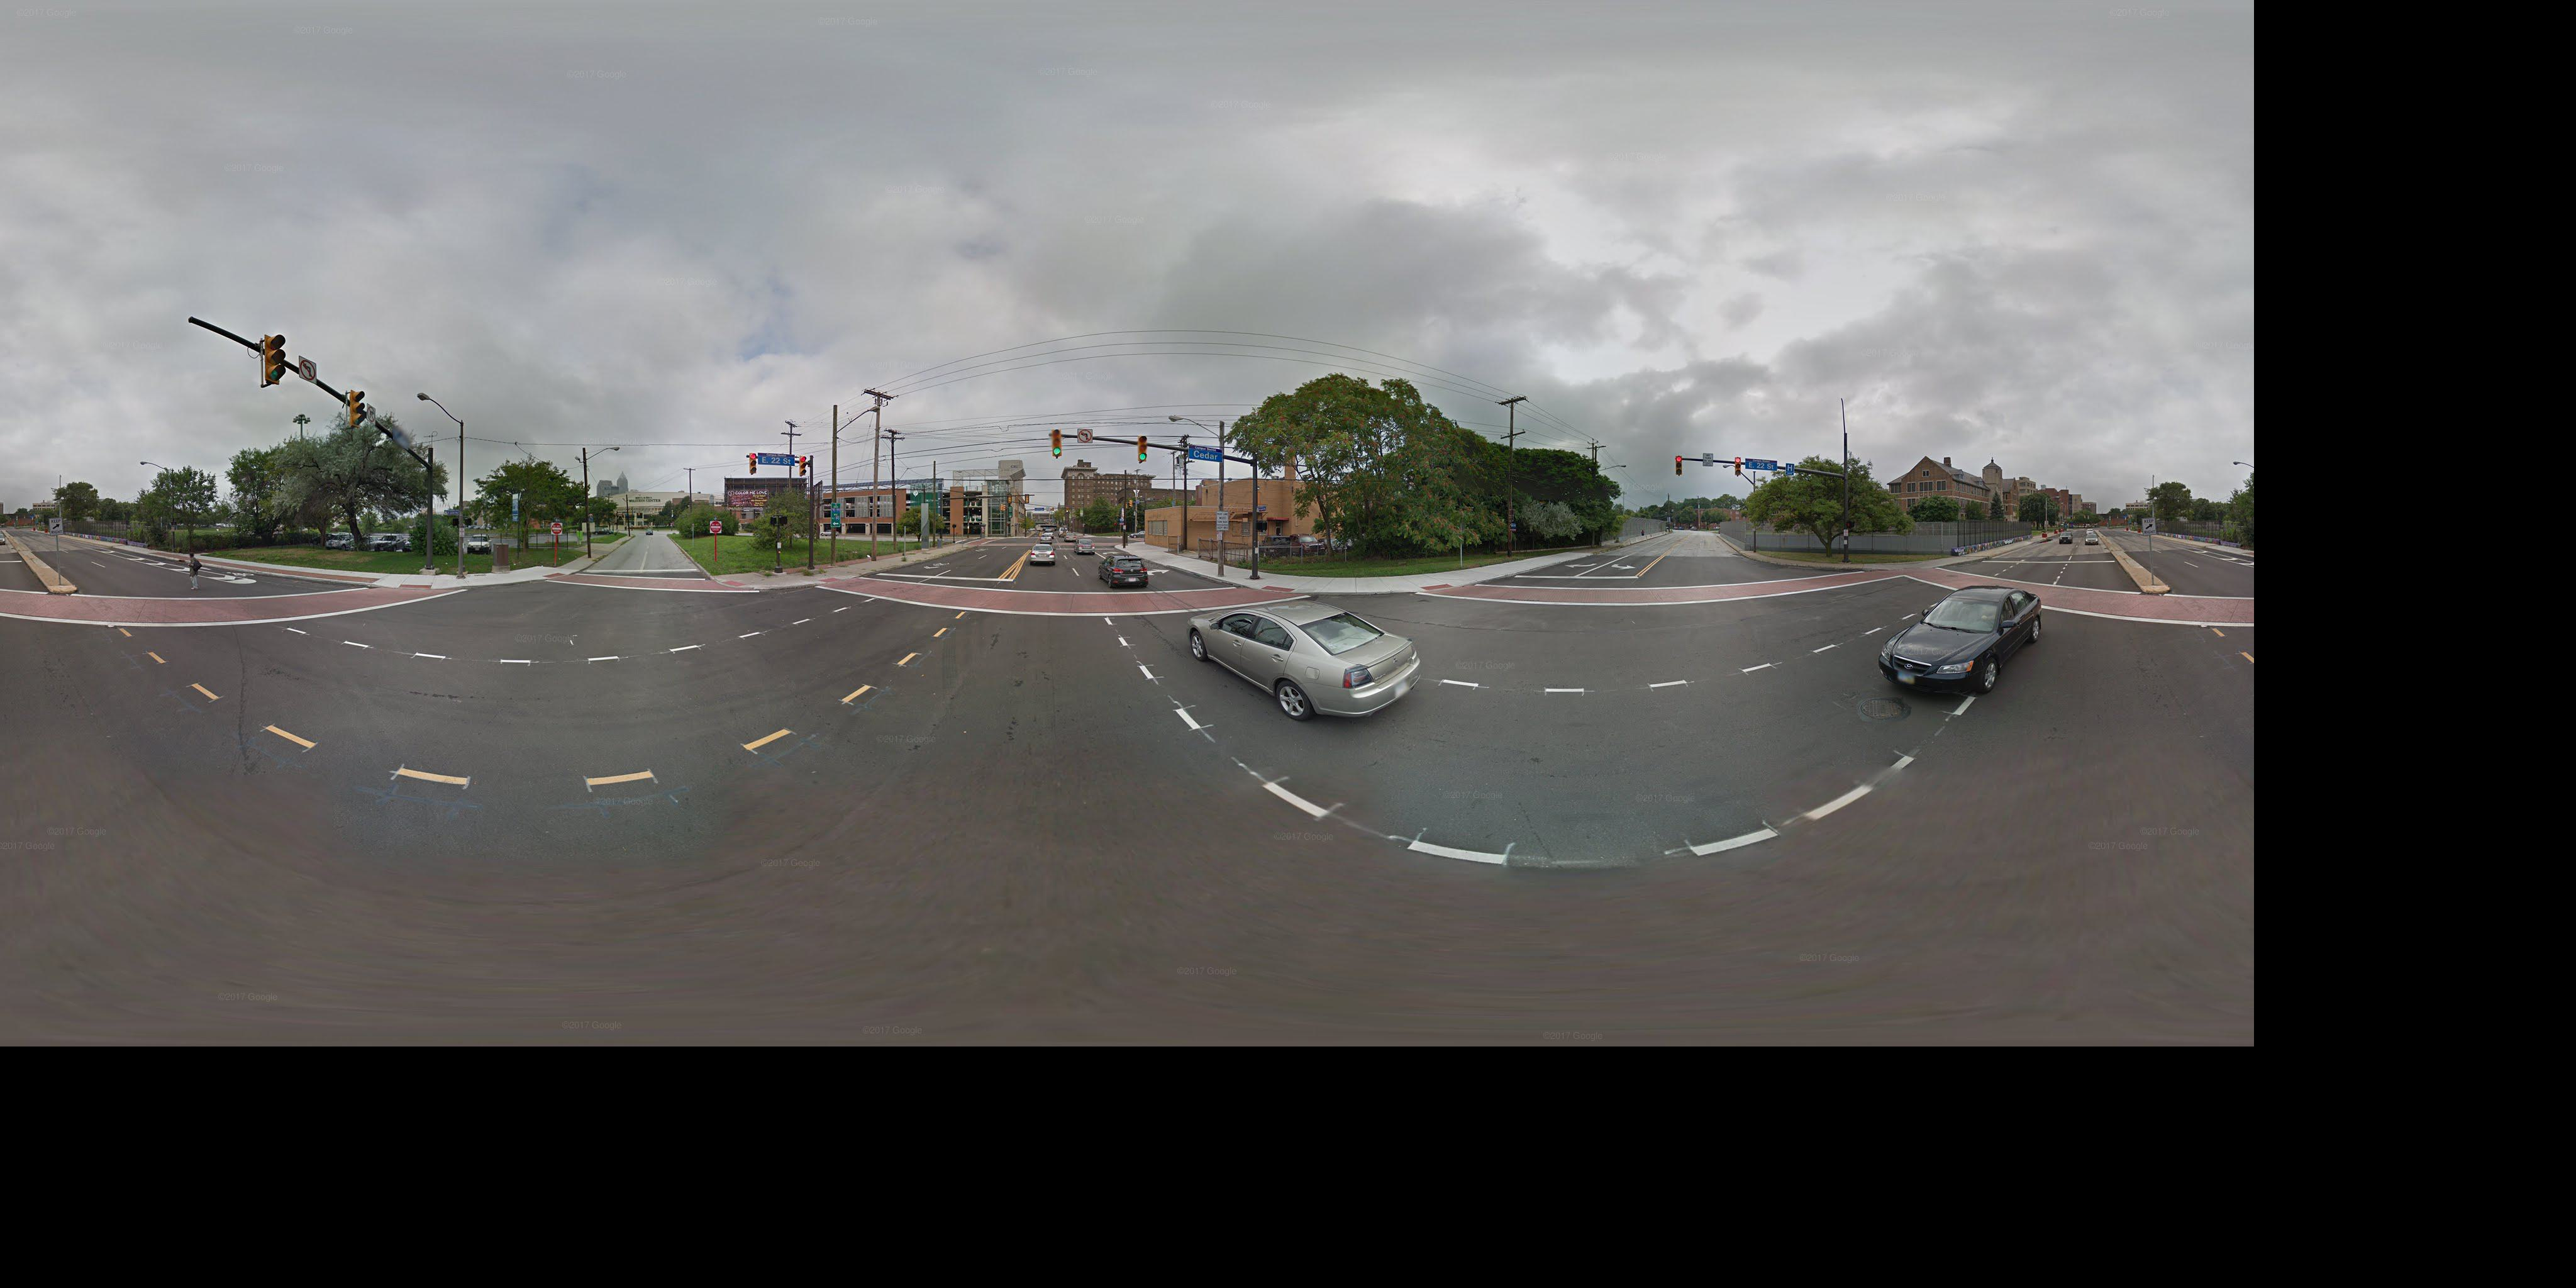Curb Ramp: (1406, 577, 1470, 596), (384, 577, 437, 595), (713, 573, 752, 596), (1258, 578, 1298, 596), (1894, 560, 1937, 575), (537, 565, 570, 582), (813, 573, 846, 586)
Missing Curb Ramp: (1863, 560, 1893, 575)
